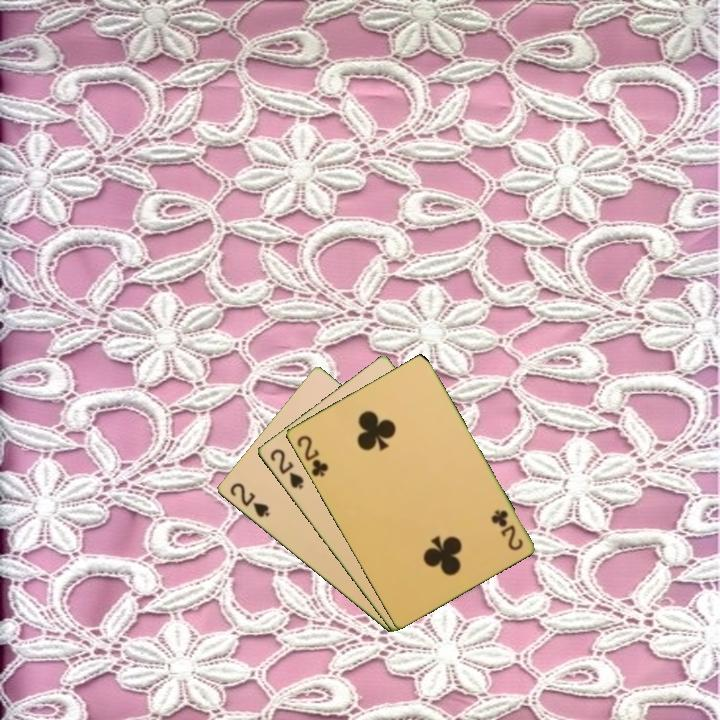2c: (293, 432, 331, 480), (488, 506, 526, 554)
2s: (226, 479, 272, 520), (266, 445, 306, 492)
